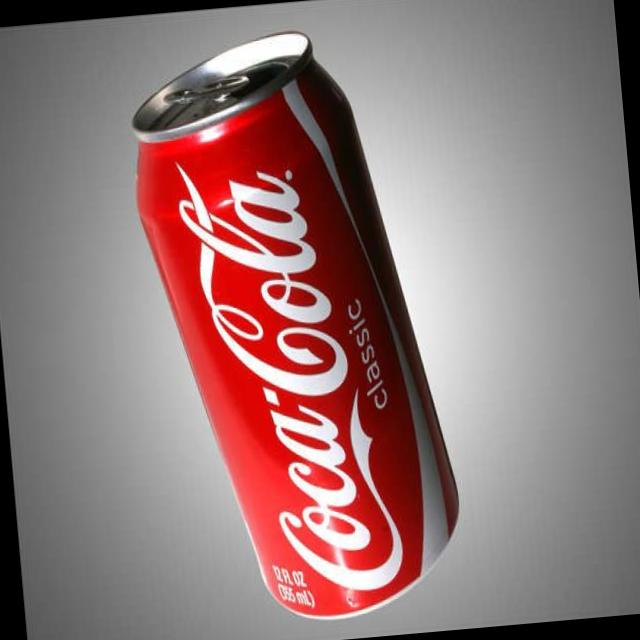cocacola: (119, 28, 470, 640)
